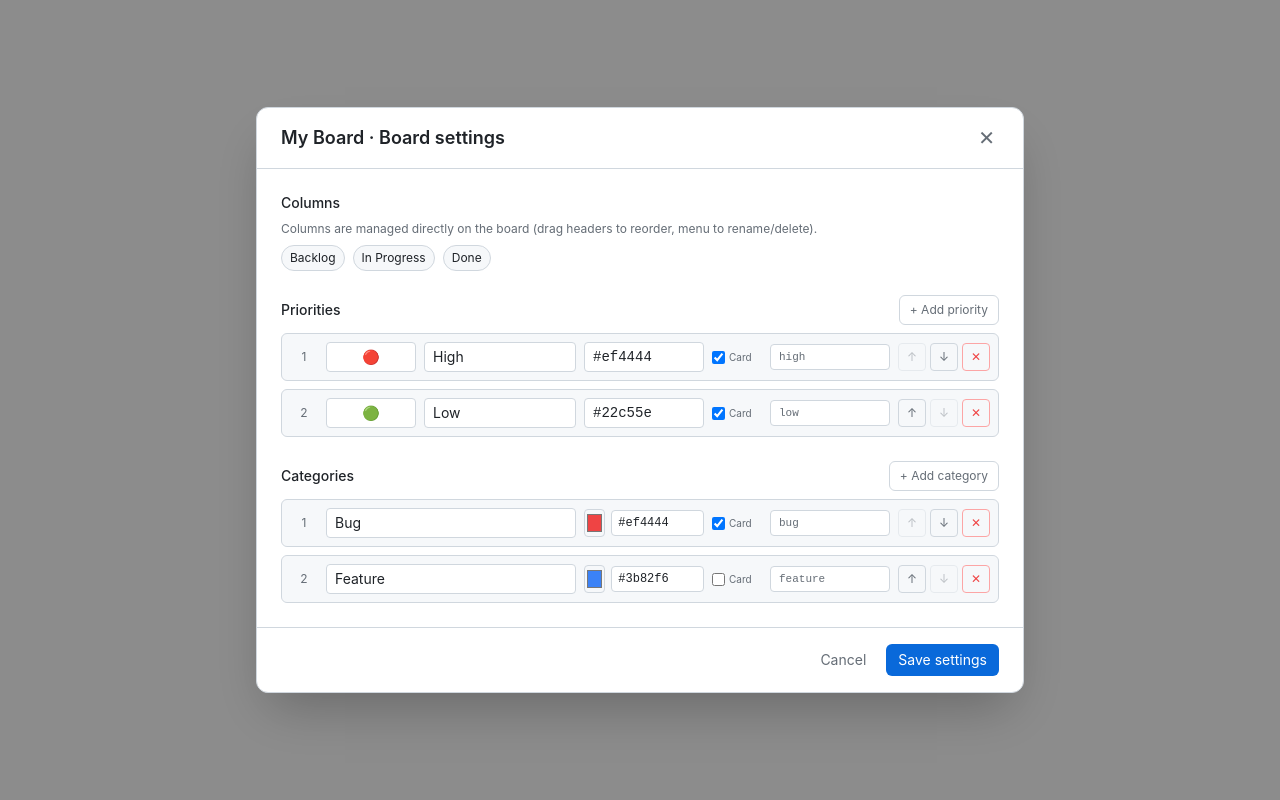
Test case: categories section › empty category label shows error
This screenshot has width=1280, height=800.
Clear the 5th field with placeholder "Category label" at (451,523), box top-left (326, 508), bottom-right (576, 538)
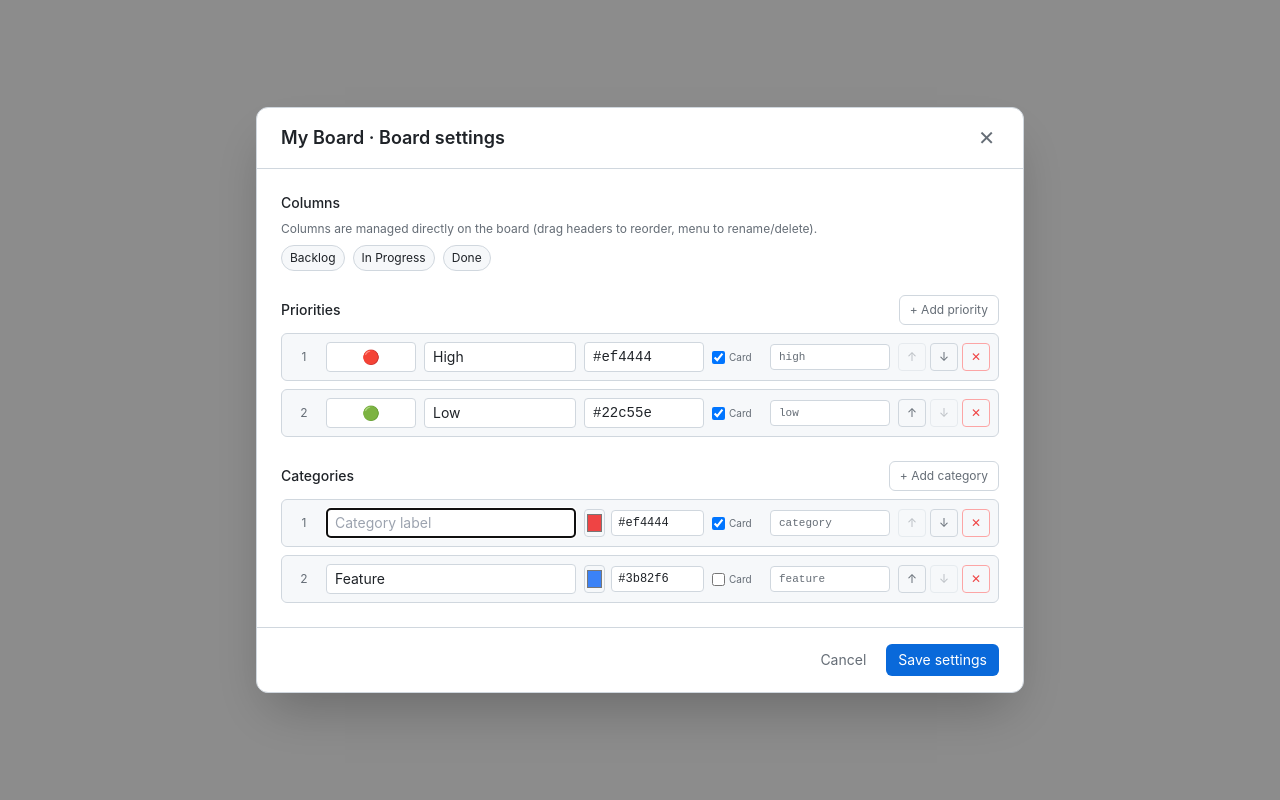
Click the button "Save settings".
click(943, 660)  # box top-left (886, 644), bottom-right (999, 676)
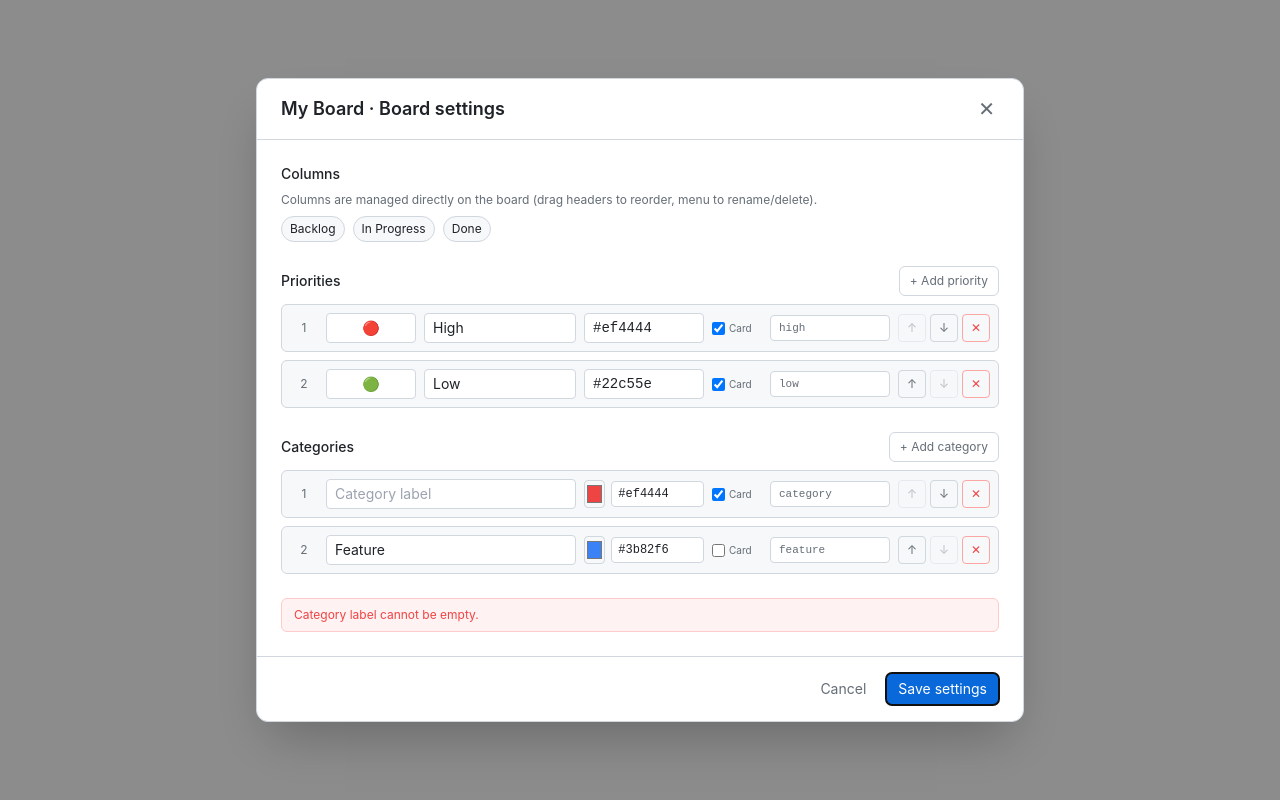
Expected: the text "Category label cannot be empty." is shown, top-left (281, 598), bottom-right (999, 632)
